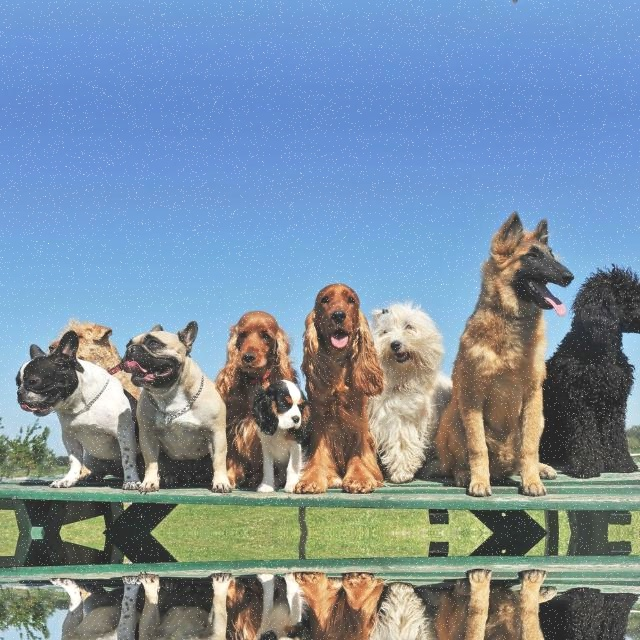dog: (437, 202, 563, 494), (290, 270, 382, 514), (122, 278, 216, 504), (2, 351, 112, 510), (368, 300, 428, 506), (2, 554, 113, 640), (437, 571, 563, 640), (291, 552, 382, 640), (122, 562, 216, 640), (368, 559, 428, 640), (437, 0, 563, 10)
